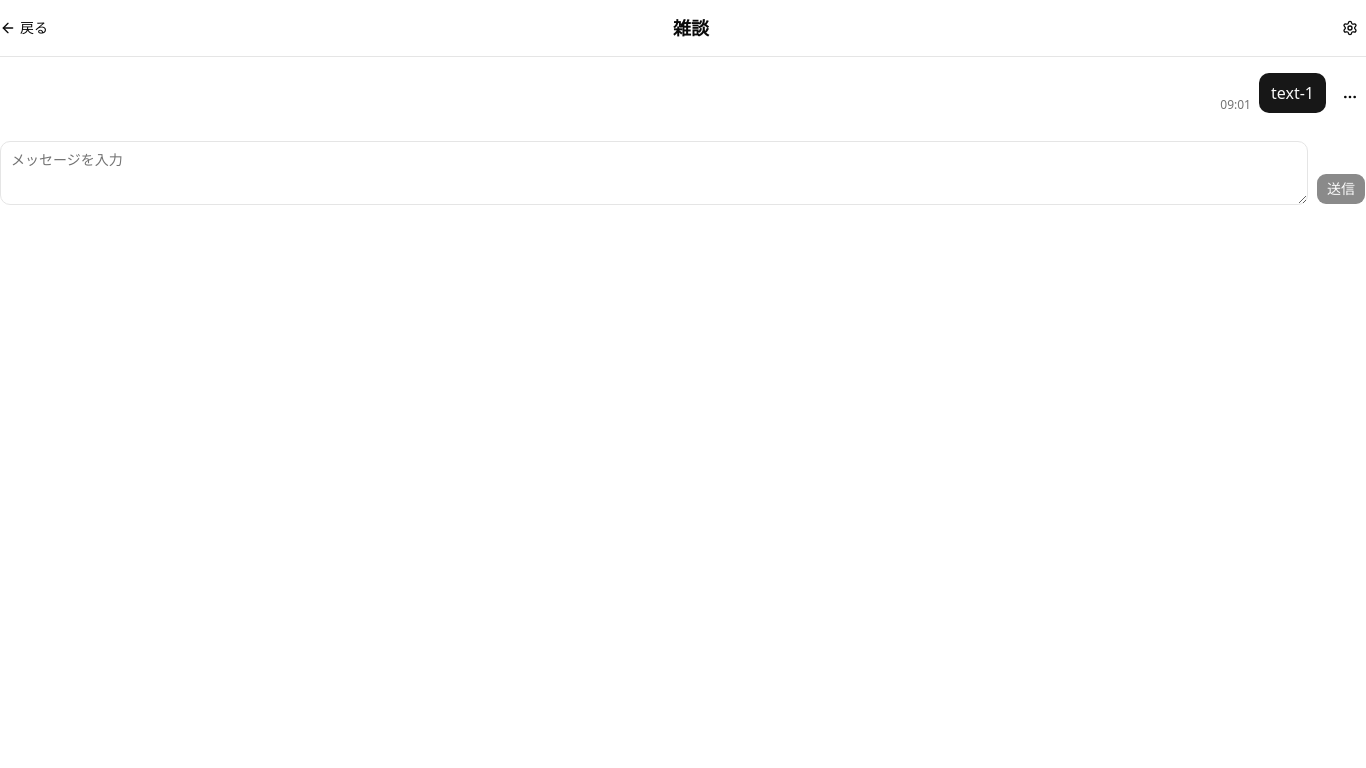
it: ChatView › message.deleted › 自分のメッセージの削除に成功すると一覧から消え、その後の同じ id のイベントでも例外にならない
The image size is (1366, 768).
Check: the text "text-1" is shown, box [1259, 73, 1326, 113]
Click the button named "メッセージの操作": {"x": 1350, "y": 97} [1334, 81, 1365, 113]
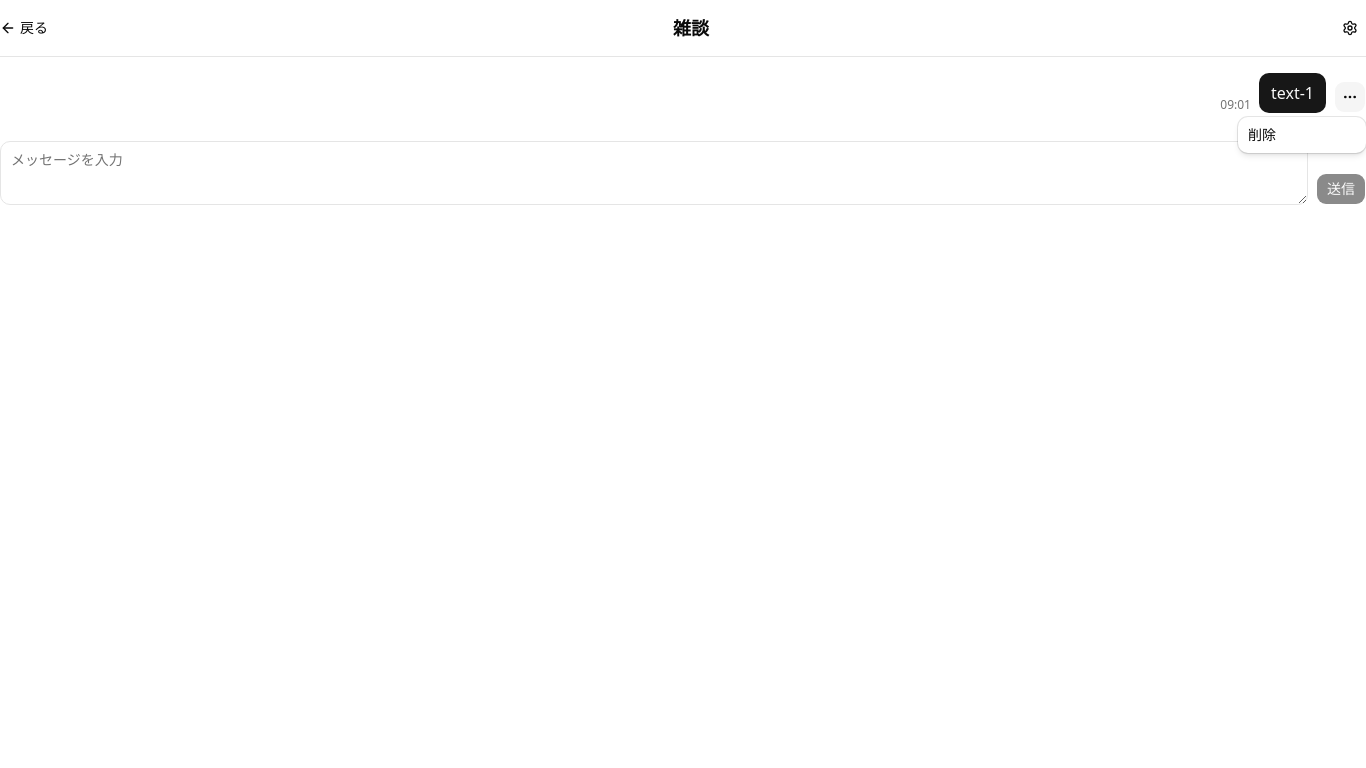
Click the menu item "削除": {"x": 1262, "y": 134} [1248, 125, 1276, 144]
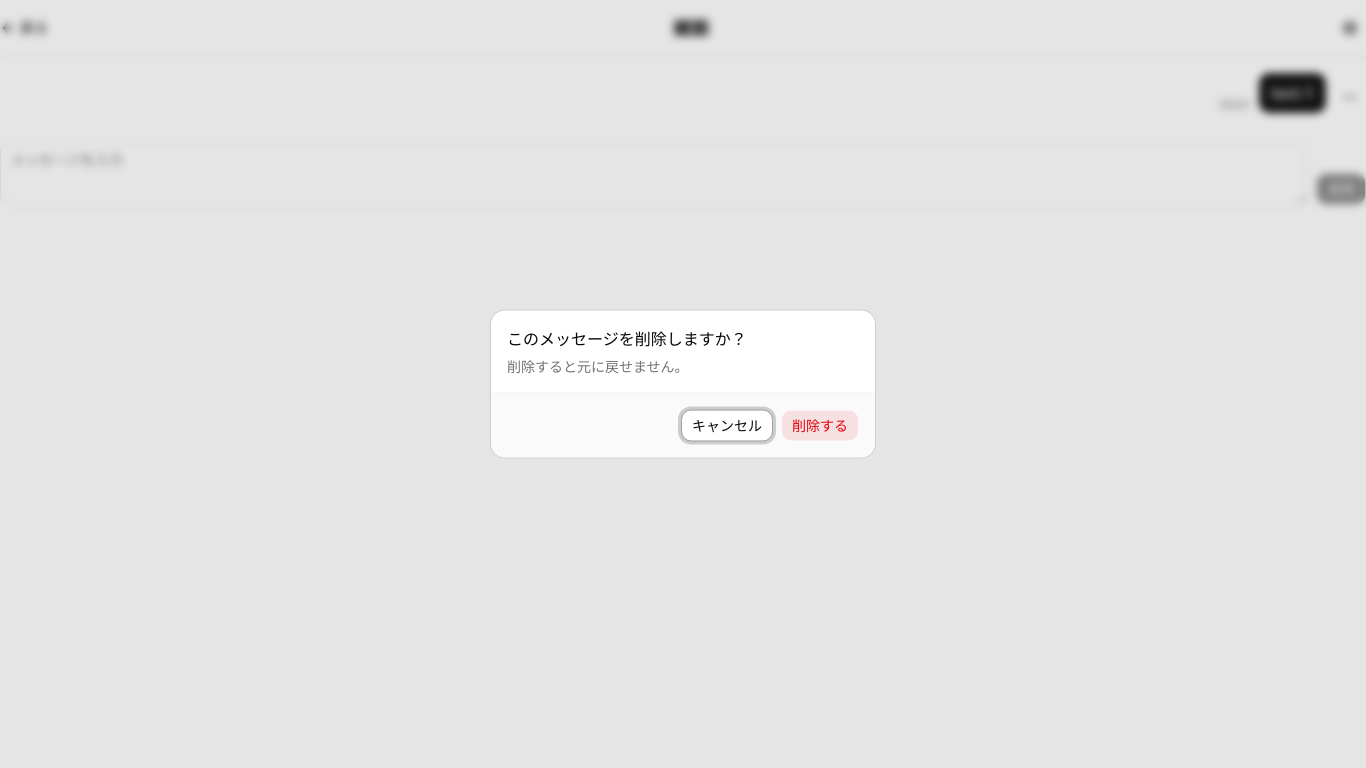
Click the button "削除する": {"x": 820, "y": 426} [781, 410, 859, 442]
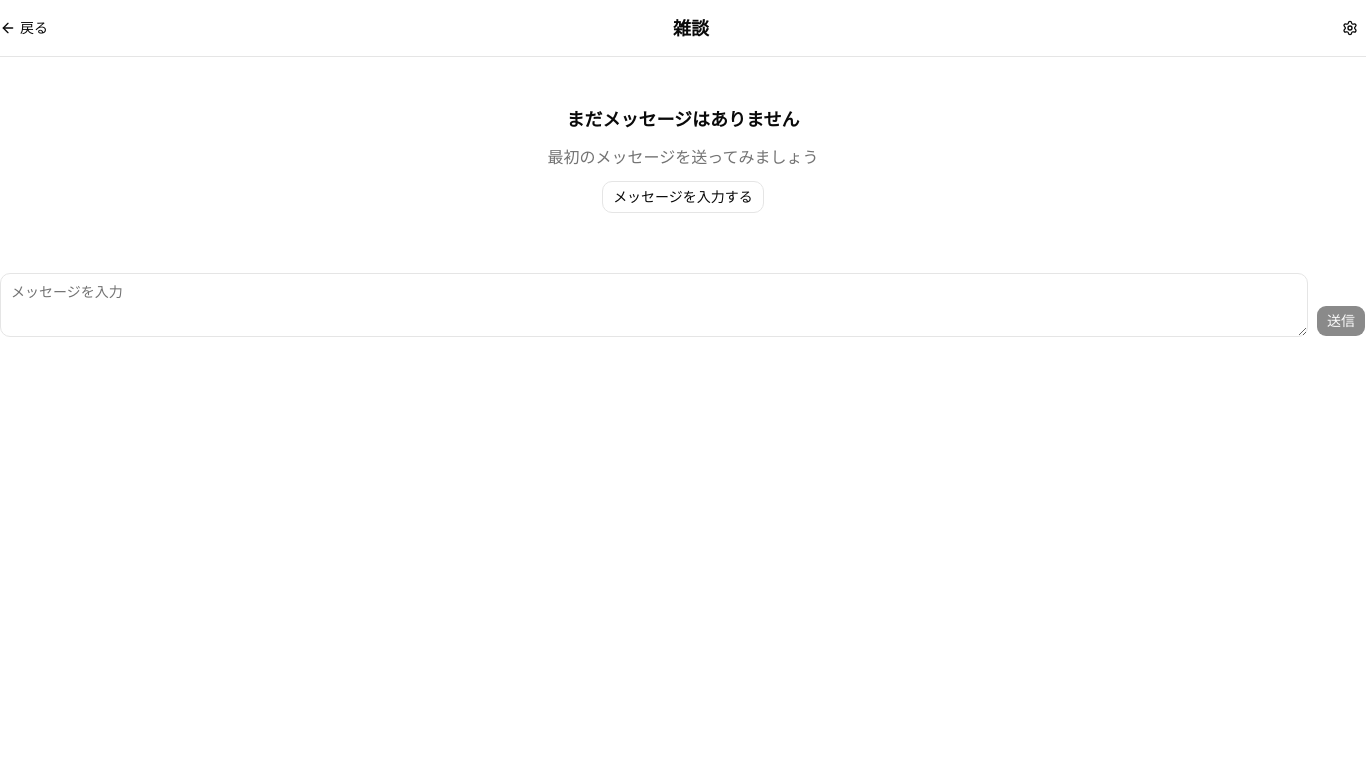
Check: the text "text-1" is gone
